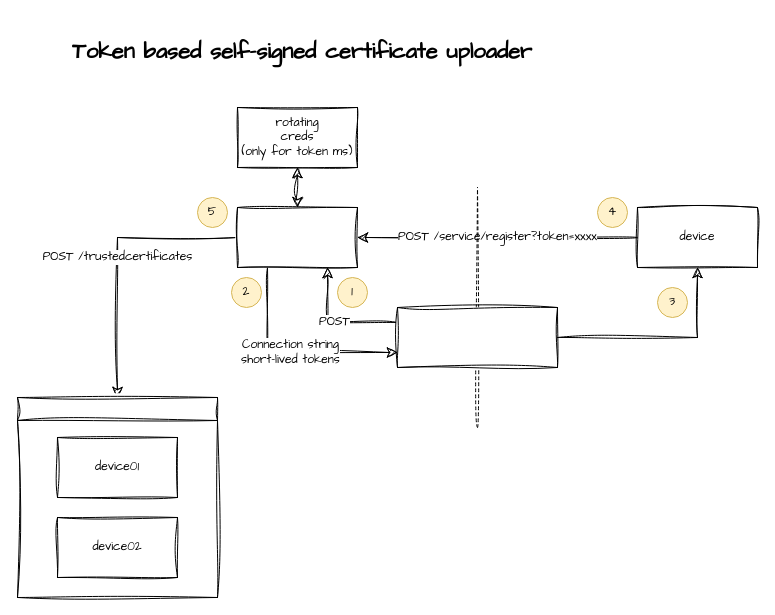
Some shapes in this 775 by 615 pixel diagram are drawn without their labels. The box of each missing label's shape, as (x1, y1, x2, y2) in pixels:
trial token: (236, 206, 358, 268)
Trusted Certificates: (16, 396, 218, 598)
UI Request: (396, 306, 558, 368)
